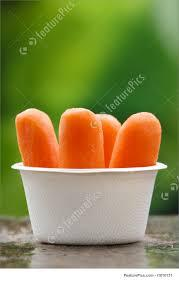Organic: (4, 66, 169, 189)
